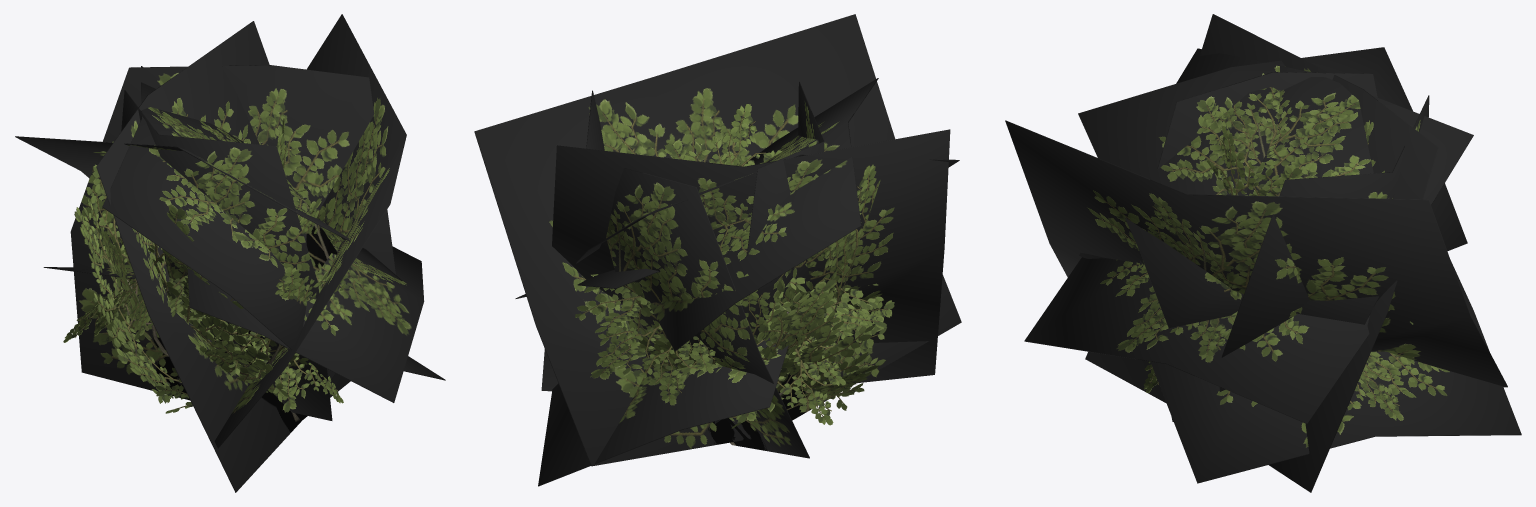
File: bush7.fbx
3 renders of one model, left to right at view 1: azimuth 30°, elevation 25°; view 2: azimuth 150°, elevation 25°; view 3: azimuth 270°, elevation 25°, orthographic. The views are drawn at different scales.
Parts seen in each view (by area): view 1: Bush-02; view 2: Bush-02; view 3: Bush-02.
Boxes of the visible parts, left/top/right/bottom form: Bush-02: left=15, top=14, right=445, bottom=492; Bush-02: left=474, top=14, right=961, bottom=486; Bush-02: left=1005, top=14, right=1521, bottom=492.
Bounding box in the file's own units: 119 × 87.87 × 127.
